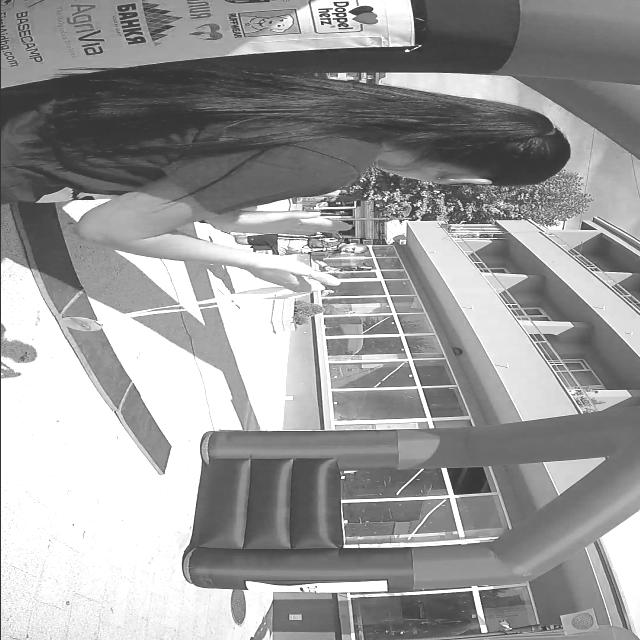runner: (229, 221, 373, 267)
